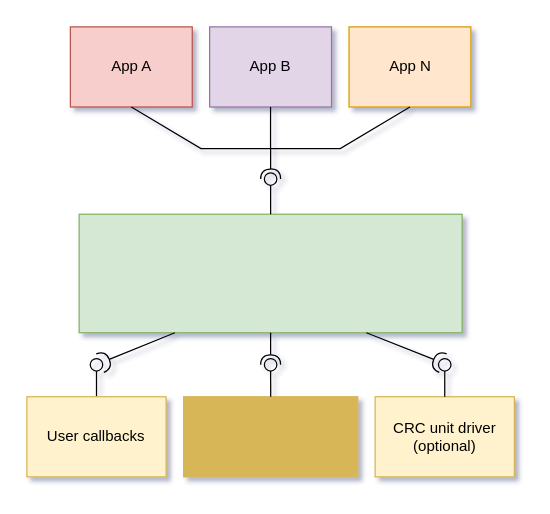
Image size: 550x514. Some labels were removed from this diagram. The shapes that lost their labels are listed below. From the top down, each one's centre as x and y in pixels, then its label:
At (x=270, y=273): "mEEM".
At (x=270, y=436): "EEPROM access driver".
